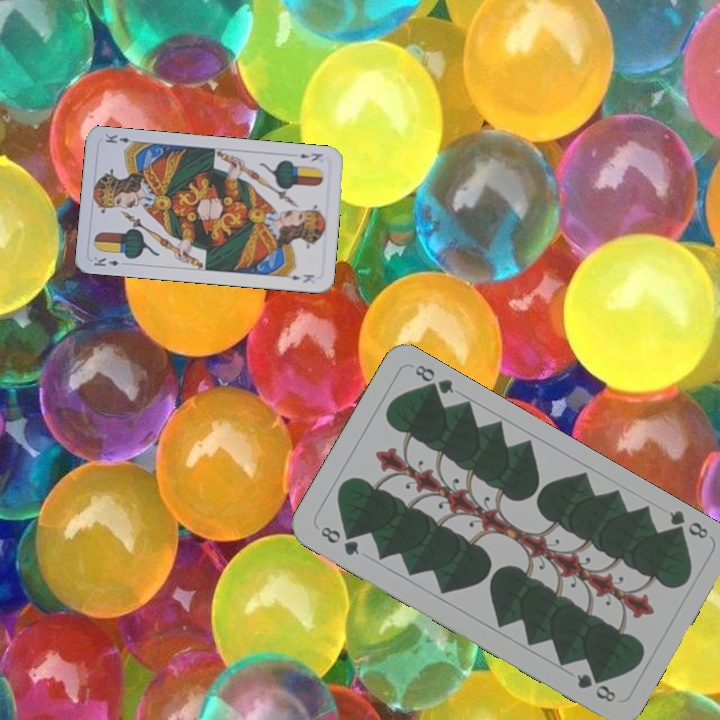EK: (90, 253, 122, 269), (296, 149, 325, 164)
G8: (664, 506, 711, 542), (316, 522, 362, 558)
